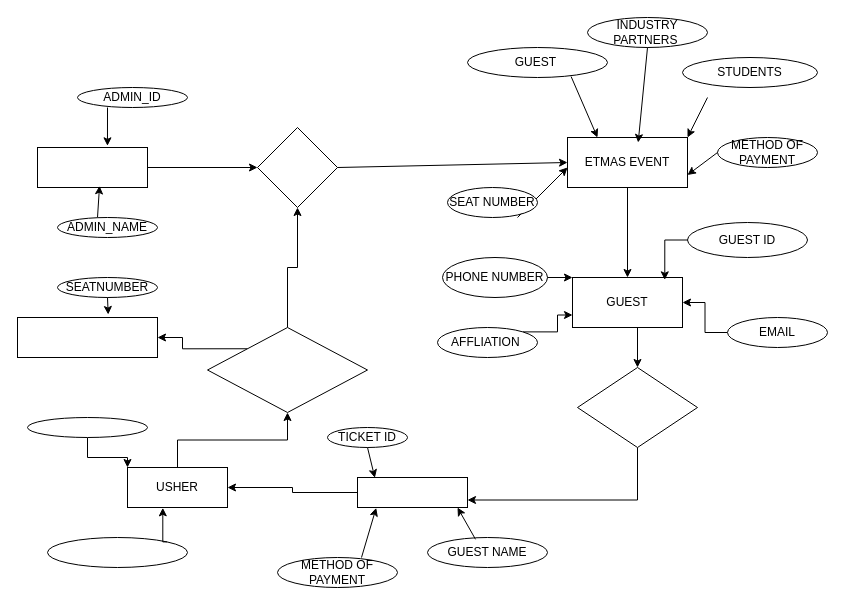
This 845x605 diagram has some shape labels left out. Here are the shapes that lost their labels. From the top down, the centre of each, then its label:
the point at 92,167: EVENT ORGANISER
the point at 297,167: MANAGES
the point at 87,337: EXIBITION
the point at 287,369: SEAT ALLOCATION
the point at 87,427: USHER NAME
the point at 637,407: PAYMENT
the point at 412,492: EVENT AND RECORDS TEAM
the point at 117,552: USHER CONTACT
